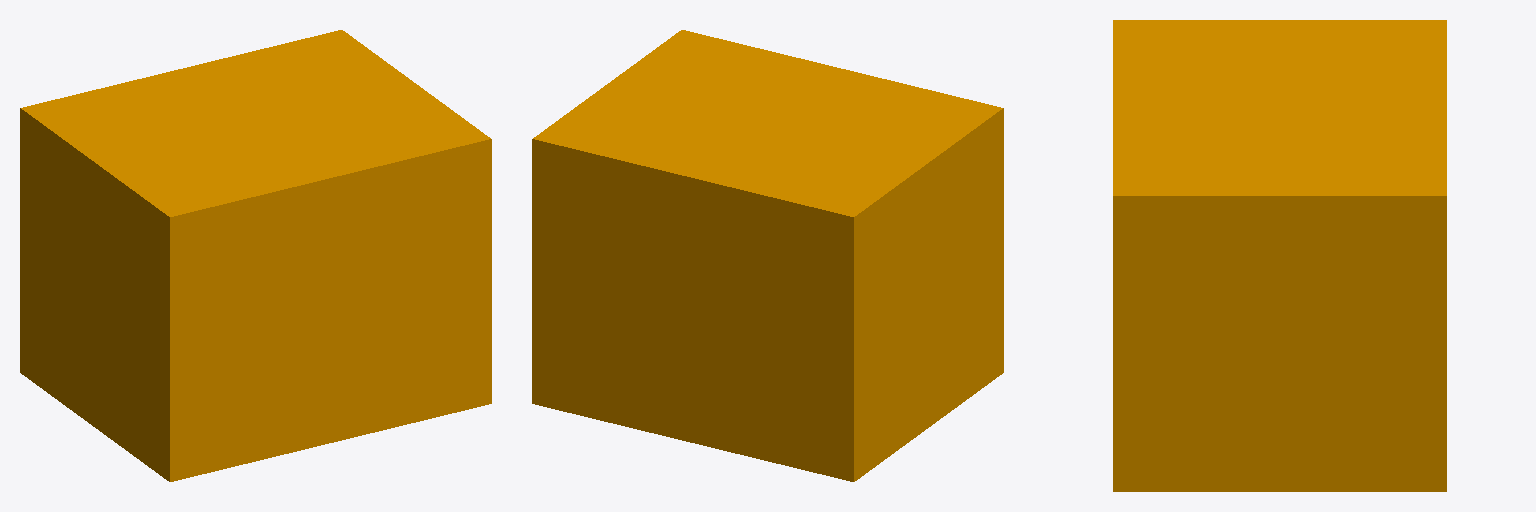
robot.urdf — object:
<?xml version="1.0"?>
<!-- Auto-generated by tools/gen_primitive_objects.py. kind=box dims=(0.07964, 0.064073, 0.062711) -->
<robot name="object">
  <link name="object">
    <visual>
      <origin xyz="0 0 0"/>
      <geometry>
        <box size="0.079640 0.064073 0.062711"/>
      </geometry>
    </visual>
    <collision>
      <origin xyz="0 0 0"/>
      <geometry>
        <box size="0.079640 0.064073 0.062711"/>
      </geometry>
    </collision>
    <inertial>
      <mass value="0.064000"/>
      <inertia ixx="0.00004287" ixy="0.0" ixz="0.0" iyy="0.00005480" iyz="0.0" izz="0.00005572"/>
    </inertial>
  </link>
</robot>

--- What the picture shows (computed from the rendered views, not written in the file) ---
3 views of the same robot in one strip: view 1: azimuth 30°, elevation 25°; view 2: azimuth 150°, elevation 25°; view 3: azimuth 270°, elevation 25° (orthographic).
Model object with 1 links and 0 joints (none), rooted at object, posed every joint at zero.
Links seen in each view (by area): view 1: object; view 2: object; view 3: object.
Link boxes in pixels (bbox=[...]): object: bbox=[20, 30, 491, 481]; object: bbox=[532, 30, 1003, 481]; object: bbox=[1113, 20, 1446, 491].
Size in the robot's own frame: 0.0796 by 0.0641 by 0.0627 metres.
Geometry: primitives only (box / cylinder / sphere), no mesh files.
